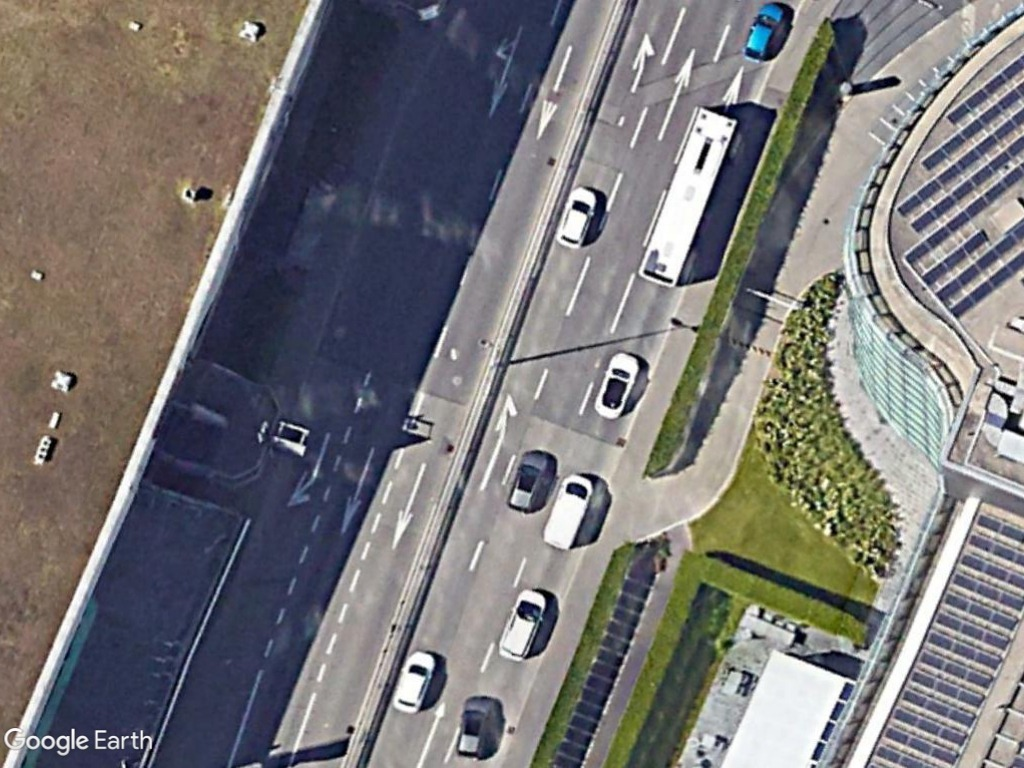bus: (634, 103, 739, 295)
car: (496, 587, 547, 665), (590, 348, 641, 422), (553, 181, 601, 254), (388, 646, 438, 716), (506, 447, 551, 515), (740, 2, 786, 66), (454, 695, 493, 761)
van: (540, 470, 597, 554)
